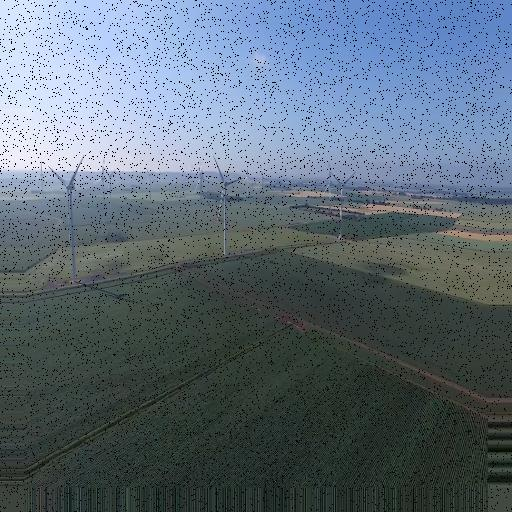wind turbine: (47, 157, 86, 278), (209, 155, 245, 251)
